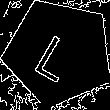L_NE: (32, 24, 85, 82)
